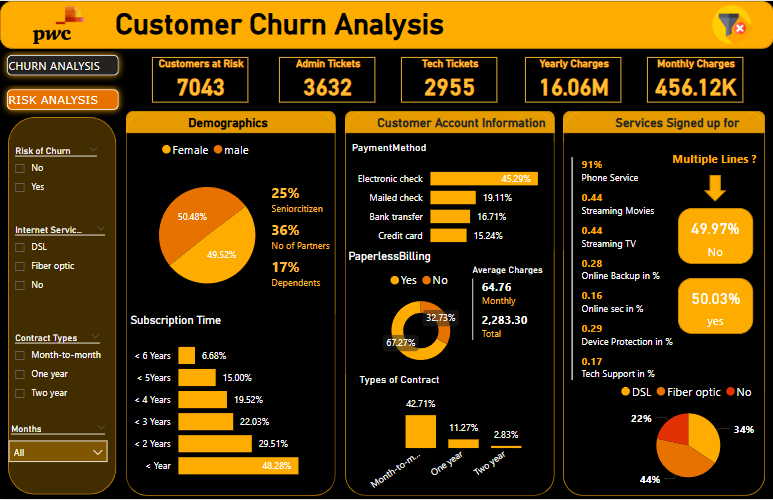

The dashboard page shown, as its layout file describes it:
{"tool":"powerbi","page":{"name":"CHURN ANALYSIS","canvas":[900,580],"ordinal":0},"visuals":[{"type":"donutChart","fields":{"Y":["01 Churn-Dataset.No of seniorcitizen","01 Churn-Dataset.No of Partners","01 Churn-Dataset.No of Dependents"]},"box":[940,428.6,254.3,145.7],"z":0},{"type":"pageNavigator","box":[0,55,146.2,80],"z":1000},{"type":"card","title":"Customers at Risk","fields":{"Values":["CountNonNull(01 Churn-Dataset.customerID)"]},"box":[176.7,65.6,112.2,53.3],"z":2000},{"type":"shape","box":[0,0,900,55.6],"z":3000},{"type":"card","title":"Admin Tickets","fields":{"Values":["01 Churn-Dataset.AdminTickets"]},"box":[324.4,65.6,112.2,53.3],"z":4000},{"type":"card","title":"Tech Tickets","fields":{"Values":["01 Churn-Dataset.TechTickets"]},"box":[466.7,65.6,112.2,53.3],"z":5000},{"type":"card","title":"Yearly Charges","fields":{"Values":["Sum(01 Churn-Dataset.TotalCharges)"]},"box":[610,65.6,112.2,53.3],"z":6000},{"type":"card","title":"Monthly Charges","fields":{"Values":["Sum(01 Churn-Dataset.MonthlyCharges)"]},"box":[752.2,65.6,112.2,53.3],"z":7000},{"type":"shape","box":[146.2,127.5,243.8,447.5],"z":8000},{"type":"shape","box":[655,127.5,235,447.5],"z":9000},{"type":"shape","box":[401.2,127.5,243.8,447.5],"z":10000},{"type":"pieChart","title":"Gender","fields":{"Y":["01 Churn-Dataset.Female","01 Churn-Dataset.male"]},"box":[146.2,152.5,188.8,211.2],"z":11000},{"type":"multiRowCard","fields":{"Values":["01 Churn-Dataset.No of Seniorcitizen","01 Churn-Dataset.No of Partners","01 Churn-Dataset.No of Dependents"]},"box":[310,211.2,80,140],"z":12000},{"type":"clusteredBarChart","title":"Subscription Time","fields":{"Category":["01 Churn-Dataset.Loyalty"],"Y":["01 Churn-Dataset.Churn Rate"]},"box":[146.2,363.8,246.2,202.5],"z":13000},{"type":"clusteredBarChart","title":"PaymentMethod","fields":{"Category":["01 Churn-Dataset.PaymentMethod"],"Y":["01 Churn-Dataset.Churn Rate"]},"box":[408.8,163.8,257.5,126.2],"z":14000},{"type":"clusteredColumnChart","title":"Types of Contract","fields":{"Category":["01 Churn-Dataset.Contract"],"Y":["01 Churn-Dataset.Churn Rate"]},"box":[412.5,433.8,221.2,146.2],"z":15000},{"type":"donutChart","title":"PaperlessBilling","fields":{"Category":["01 Churn-Dataset.PaperlessBilling"],"Y":["01 Churn-Dataset.Churn Rate"]},"box":[400,290,178.8,143.8],"z":16000},{"type":"multiRowCard","title":"Average Charges","fields":{"Values":["Avg(01 Churn-Dataset.MonthlyCharges)","Avg(01 Churn-Dataset.TotalCharges)"]},"box":[543.8,306.2,101.2,113.8],"z":17000},{"type":"shape","box":[146.2,127.5,243.8,26.2],"z":18000},{"type":"shape","box":[401.2,127.5,243.8,26.2],"z":19000},{"type":"shape","box":[655,127.5,235,26.2],"z":20000},{"type":"shape","box":[8.8,135,126.2,440],"z":21000},{"type":"slicer","fields":{"Values":["01 Churn-Dataset.Churn"]},"box":[5,162.5,121.2,80],"z":22000},{"type":"slicer","fields":{"Values":["01 Churn-Dataset.InternetService"]},"box":[5,255,130,93.8],"z":23000},{"type":"slicer","fields":{"Values":["01 Churn-Dataset.Contract"]},"box":[5,380,123.8,96.2],"z":24000},{"type":"textbox","box":[128.8,2.5,492.5,72.5],"z":25000},{"type":"image","box":[8.8,0,117.5,55],"z":26000},{"type":"textbox","box":[213.8,127.5,136.2,35],"z":27000},{"type":"textbox","box":[433.8,127.5,222.5,35],"z":28000},{"type":"textbox","box":[710,127.5,185,37.5],"z":29000},{"type":"multiRowCard","fields":{"Values":["01 Churn-Dataset.Phone Service in %","01 Churn-Dataset.Streaming Movies in %","01 Churn-Dataset.Streaming TV in %","01 Churn-Dataset.Online Backup in %","01 Churn-Dataset.Online sec in %","01 Churn-Dataset.Device Protection in %","01 Churn-Dataset.Tech Support in %"]},"box":[658.8,176.2,130,331.2],"z":30000},{"type":"pieChart","fields":{"Category":["01 Churn-Dataset.InternetService"],"Y":["CountNonNull(01 Churn-Dataset.customerID)"]},"box":[710,433.8,180,137.5],"z":31000},{"type":"slicer","fields":{"Values":["01 Churn-Dataset.tenure"]},"box":[0,486.2,135,80],"z":32000},{"type":"shape","box":[788.8,241.2,87.5,65],"z":33000},{"type":"shape","box":[788.8,322.5,87.5,65],"z":34000},{"type":"card","fields":{"Values":["01 Churn-Dataset.multiline No"]},"box":[791.2,243.8,82.5,58.8],"z":35000},{"type":"card","fields":{"Values":["01 Churn-Dataset.multiline yes"]},"box":[793.8,323.8,76.2,62.5],"z":36000},{"type":"textbox","box":[776.2,170,123.8,41.2],"z":37000},{"type":"shape","box":[818.8,202.5,26.2,31.2],"z":38000},{"type":"image","box":[802.5,0,97.5,55],"z":38501}]}

Visuals, with their boxes in screenshot pixels (x1, y1, x2, y2), scaled from the page's 900x580 canvas onto the 773x500 screenshot:
pageNavigator: x1=0, y1=47, x2=126, y2=116
"Customers at Risk" card: x1=152, y1=57, x2=248, y2=102
shape: x1=0, y1=0, x2=772, y2=48
"Admin Tickets" card: x1=279, y1=57, x2=375, y2=102
"Tech Tickets" card: x1=401, y1=57, x2=497, y2=102
"Yearly Charges" card: x1=524, y1=57, x2=620, y2=102
"Monthly Charges" card: x1=646, y1=57, x2=742, y2=102
shape: x1=126, y1=110, x2=335, y2=496
shape: x1=563, y1=110, x2=764, y2=496
shape: x1=345, y1=110, x2=554, y2=496
"Gender" pieChart: x1=126, y1=131, x2=288, y2=314
multiRowCard - 01 Churn-Dataset.No of Seniorcitizen x 01 Churn-Dataset.No of Partners: x1=266, y1=182, x2=335, y2=303
"Subscription Time" clusteredBarChart: x1=126, y1=314, x2=337, y2=488
"PaymentMethod" clusteredBarChart: x1=351, y1=141, x2=572, y2=250
"Types of Contract" clusteredColumnChart: x1=354, y1=374, x2=544, y2=499
"PaperlessBilling" donutChart: x1=344, y1=250, x2=497, y2=374
"Average Charges" multiRowCard: x1=467, y1=264, x2=554, y2=362
shape: x1=126, y1=110, x2=335, y2=132
shape: x1=345, y1=110, x2=554, y2=132
shape: x1=563, y1=110, x2=764, y2=132
shape: x1=8, y1=116, x2=116, y2=496
slicer - 01 Churn-Dataset.Churn: x1=4, y1=140, x2=108, y2=209
slicer - 01 Churn-Dataset.InternetService: x1=4, y1=220, x2=116, y2=301
slicer - 01 Churn-Dataset.Contract: x1=4, y1=328, x2=111, y2=411
textbox: x1=111, y1=2, x2=534, y2=65
image: x1=8, y1=0, x2=108, y2=47
textbox: x1=184, y1=110, x2=301, y2=140
textbox: x1=373, y1=110, x2=564, y2=140
textbox: x1=610, y1=110, x2=769, y2=142
multiRowCard - 01 Churn-Dataset.Phone Service in % x 01 Churn-Dataset.Streaming Movies in %: x1=566, y1=152, x2=677, y2=437
pieChart - 01 Churn-Dataset.InternetService x CountNonNull(01 Churn-Dataset.customerID): x1=610, y1=374, x2=764, y2=492
slicer - 01 Churn-Dataset.tenure: x1=0, y1=419, x2=116, y2=488
shape: x1=677, y1=208, x2=753, y2=264
shape: x1=677, y1=278, x2=753, y2=334
card - 01 Churn-Dataset.multiline No: x1=680, y1=210, x2=750, y2=261
card - 01 Churn-Dataset.multiline yes: x1=682, y1=279, x2=747, y2=333
textbox: x1=667, y1=147, x2=772, y2=182
shape: x1=703, y1=175, x2=726, y2=201
image: x1=689, y1=0, x2=772, y2=47
